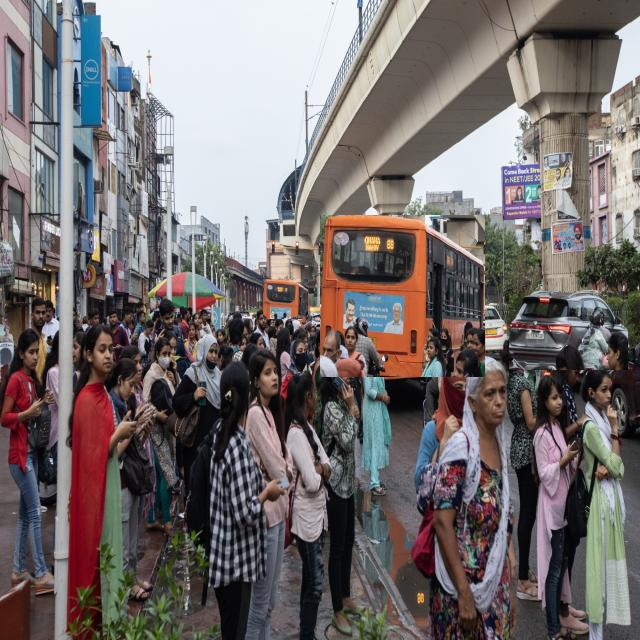bus: (320, 215, 485, 377), (264, 280, 308, 319)
car: (510, 291, 628, 370)
